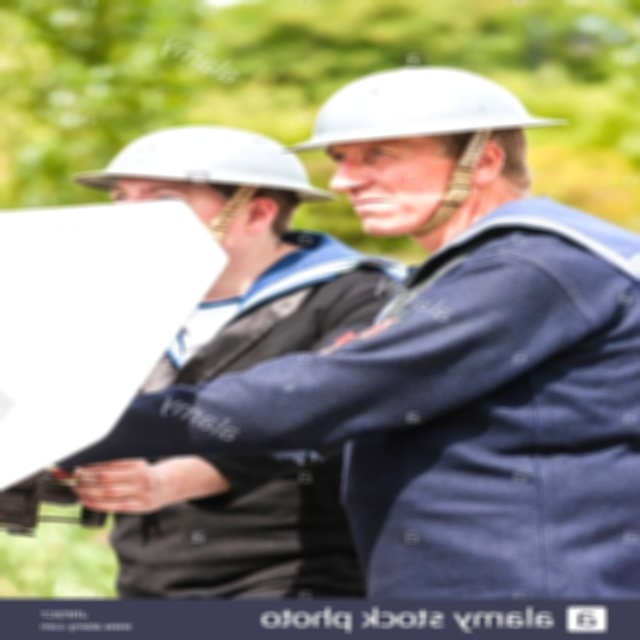Con_Casco: (282, 67, 572, 226)
